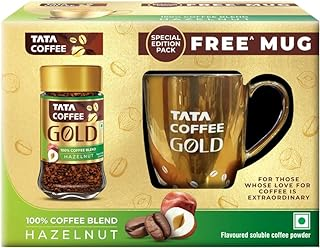Coffee: (1, 2, 320, 248)
